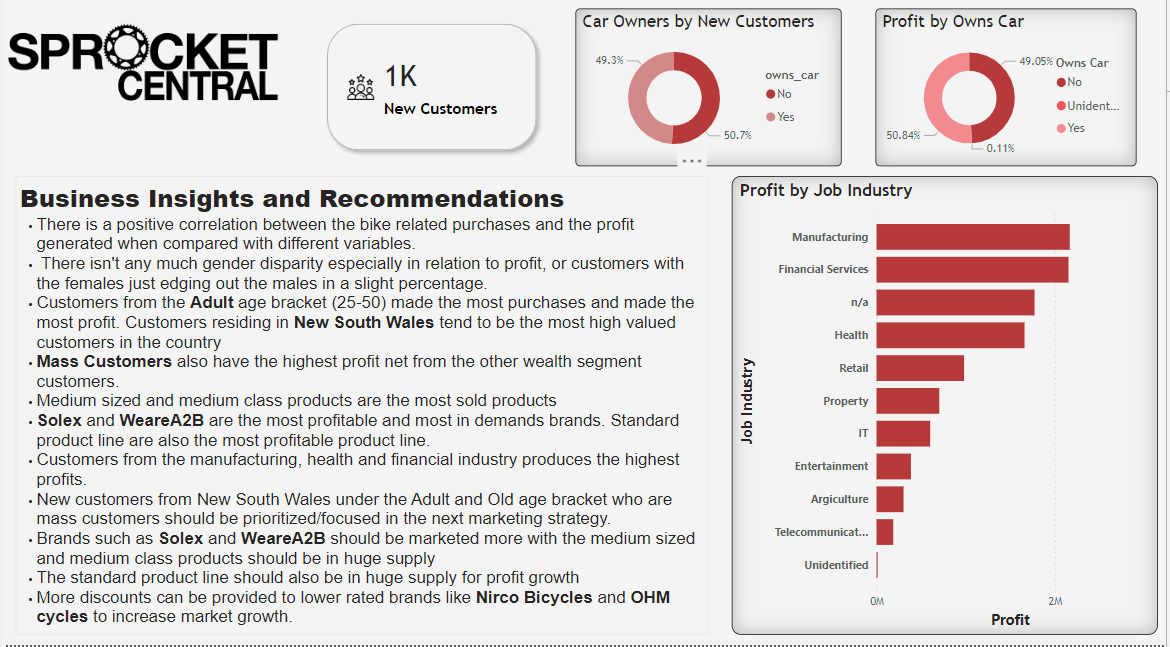

The page's visual inventory and layout, read from the dashboard file:
{"tool":"powerbi","page":{"name":"Page 3","canvas":[1280,720],"ordinal":2},"visuals":[{"type":"clusteredBarChart","fields":{"Category":["Merged Worksheet.job_industry_category"],"Y":["Sum(Merged Worksheet.Profit)"]},"box":[801.9,203.6,469,504.8],"z":0},{"type":"donutChart","fields":{"Y":["Sum(Merged Worksheet.Profit)"],"Series":["Merged Worksheet.owns_car"]},"box":[960.1,19.3,287.5,173.3],"z":1000},{"type":"image","box":[0,0,316.4,177.4],"z":2000},{"type":"donutChart","title":"Car Owners by New Customers","fields":{"Y":["CountNonNull(NewCustomerList.owns_car)"],"Category":["NewCustomerList.owns_car"]},"box":[630,19.3,293,173.3],"z":3000},{"type":"cardVisual","fields":{"Data":["CountNonNull(NewCustomerList.first_name)"]},"box":[339.7,19.3,264.1,173.3],"z":4000},{"type":"textbox","box":[13.7,202.9,762.3,505.9],"z":5000}]}

Visuals, with their boxes in screenshot pixels (x1, y1, x2, y2), scaled from the page's 1280x720 canvas onto the 1170x647 screenshot:
clusteredBarChart - Merged Worksheet.job_industry_category x Sum(Merged Worksheet.Profit): x1=733, y1=183, x2=1162, y2=637
donutChart - Sum(Merged Worksheet.Profit) x Merged Worksheet.owns_car: x1=878, y1=17, x2=1140, y2=173
image: x1=0, y1=0, x2=289, y2=159
"Car Owners by New Customers" donutChart: x1=576, y1=17, x2=844, y2=173
cardVisual - CountNonNull(NewCustomerList.first_name): x1=311, y1=17, x2=552, y2=173
textbox: x1=13, y1=182, x2=709, y2=637
